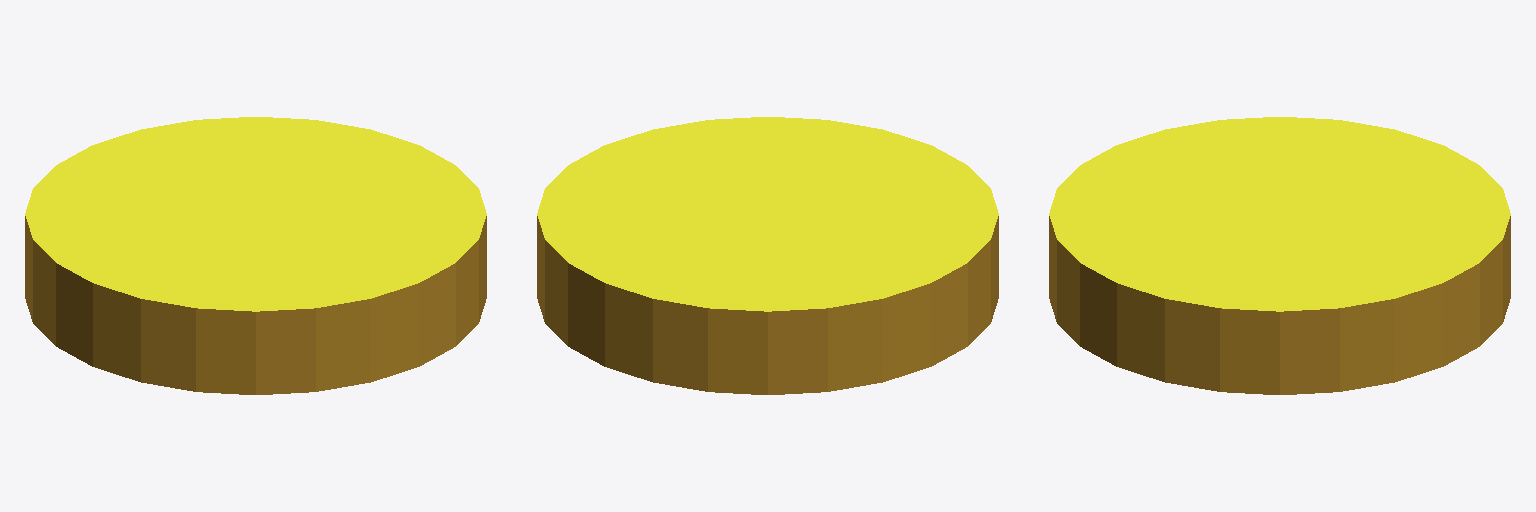
Rendered from NewMedal1.obj.
3 renders of one model, left to right at view 1: azimuth 30°, elevation 25°; view 2: azimuth 150°, elevation 25°; view 3: azimuth 270°, elevation 25°, orthographic.
Parts seen in each view (by area): view 1: NewMedal1; view 2: NewMedal1; view 3: NewMedal1.
Boxes of the visible parts, <box> form: NewMedal1: <box>25,117,486,394</box>; NewMedal1: <box>537,117,998,394</box>; NewMedal1: <box>1049,117,1510,394</box>.
Bounding box in the file's own units: 0.05 × 0.01 × 0.05.